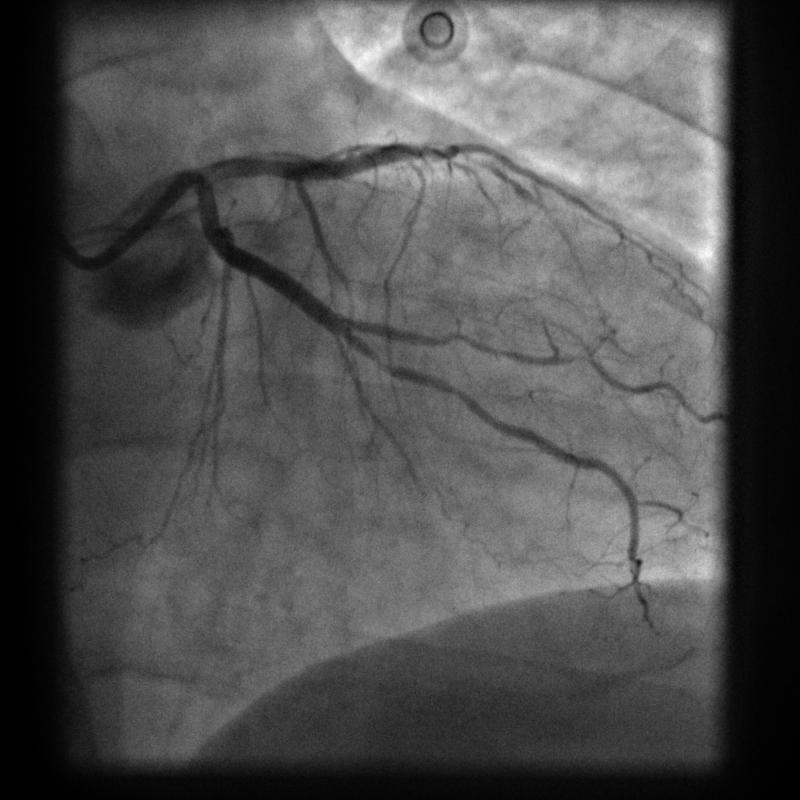Stenosis: (372, 353, 463, 402)
